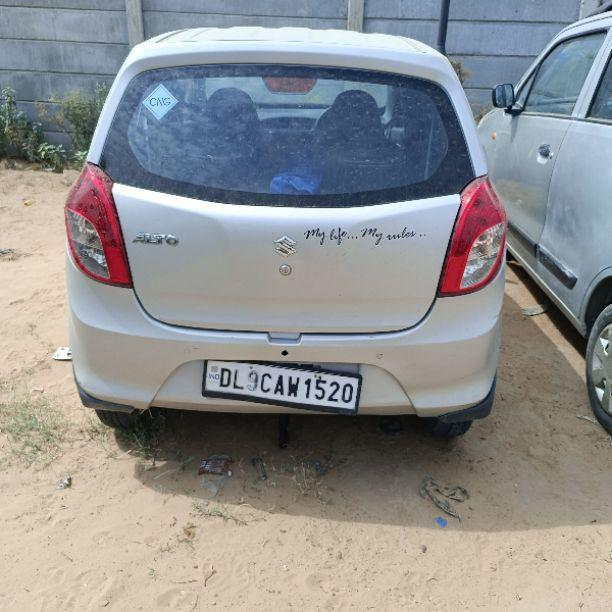license_plate: (200, 358, 362, 415)
